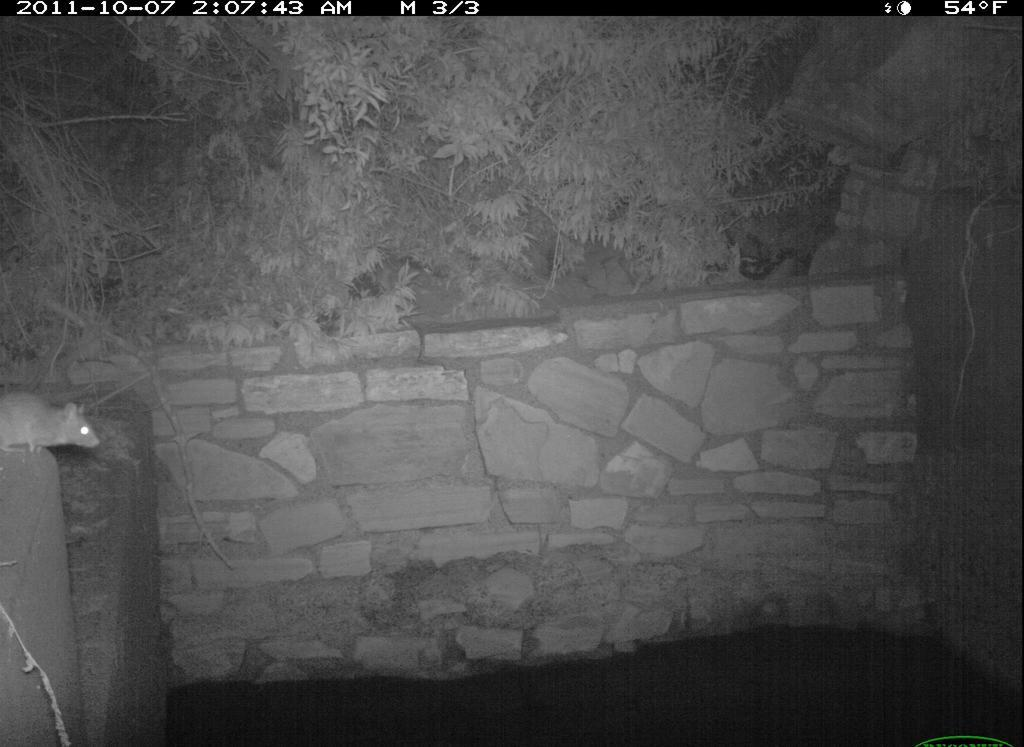rodent: (3, 383, 113, 469)
